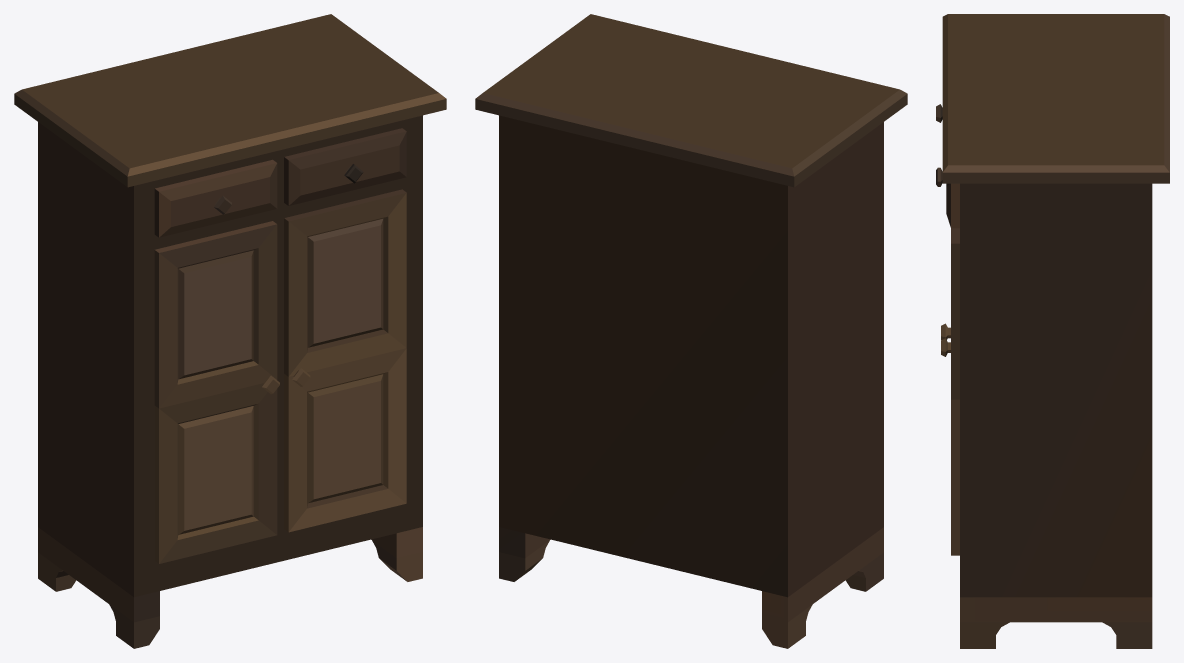
Rendered from Furniture_CabinetA.fbx.
The picture shows the model from 3 angles, left to right: view 1: azimuth 30°, elevation 25°; view 2: azimuth 150°, elevation 25°; view 3: azimuth 270°, elevation 25°; orthographic projection.
Visible parts, largest first — view 1: Furniture_CabinetA; view 2: Furniture_CabinetA; view 3: Furniture_CabinetA.
Part boxes in pixels (x1=…): Furniture_CabinetA: x1=14, y1=14, x2=446, y2=648; Furniture_CabinetA: x1=475, y1=14, x2=907, y2=648; Furniture_CabinetA: x1=936, y1=14, x2=1169, y2=648.
Size of the model in its own units: 87.74 by 128 by 55.55.
